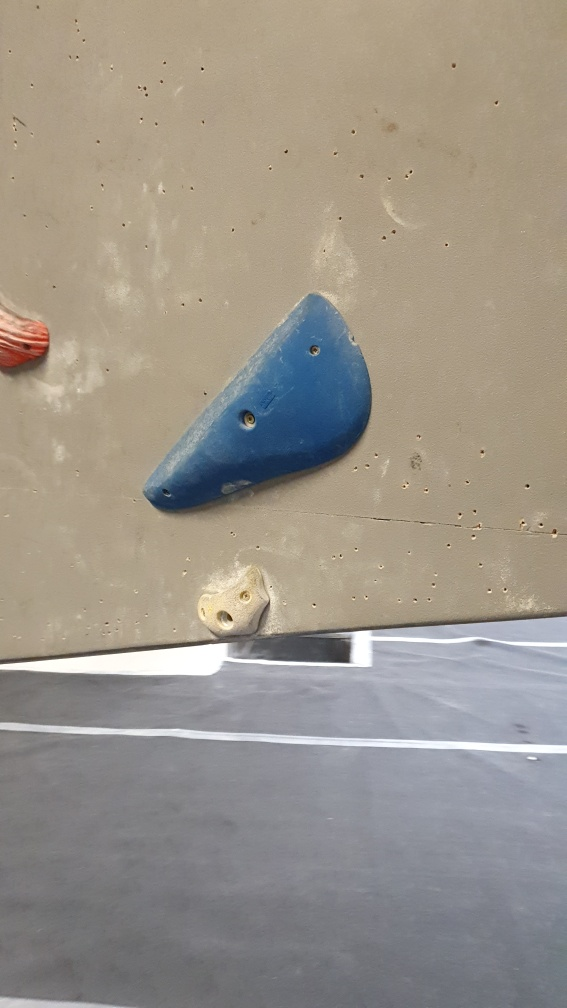Jug: (1, 305, 54, 381)
